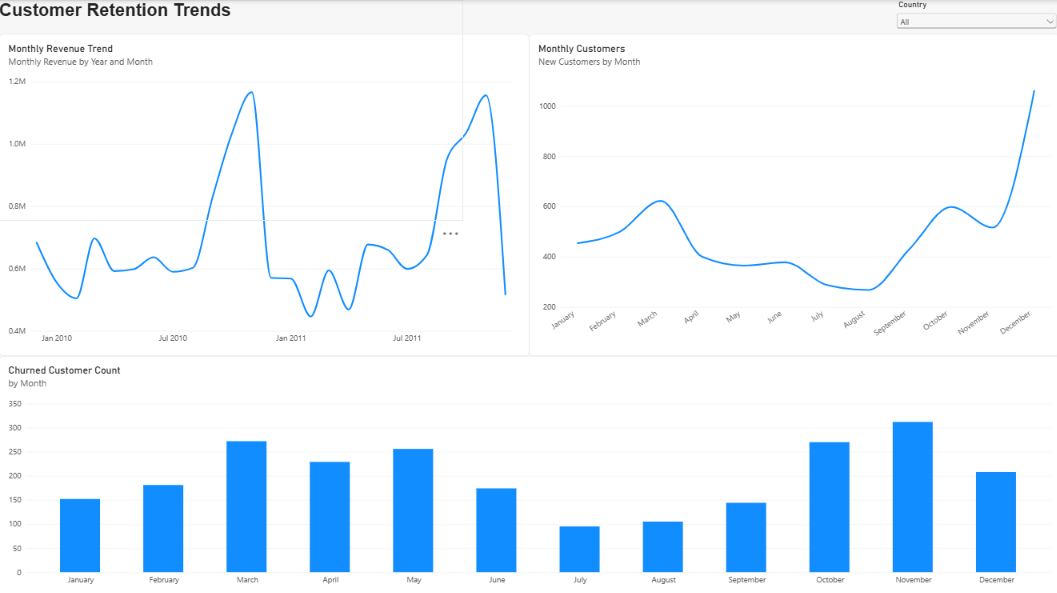

This screenshot's page, from the dashboard's own definition file:
{"tool":"powerbi","page":{"name":"Customer Retention Trends","canvas":[1920,1080],"ordinal":1},"visuals":[{"type":"lineChart","title":"Monthly Revenue Trend","fields":{"Category":["customer_purchases_clean.InvoiceDate.Variation.Date Hierarchy.Year","customer_purchases_clean.InvoiceDate.Variation.Date Hierarchy.Month"],"Y":["cancellation_returns_clean.Monthly Revenue"]},"box":[0,61.7,959.2,582.5],"z":0},{"type":"lineChart","title":"Monthly Customers","fields":{"Category":["customer_metrics.First_Purchase_Date.Variation.Date Hierarchy.Month"],"Y":["cancellation_returns_clean.New Customers"]},"box":[959.2,61.7,961.2,582.5],"z":1000},{"type":"clusteredColumnChart","fields":{"Category":["customer_metrics.Last_Purchase_Date.Variation.Date Hierarchy.Month"],"Y":["cancellation_returns_clean.Churned Customer Count"]},"box":[0,644.3,1920.4,436.4],"z":2000},{"type":"slicer","fields":{"Values":["customer_metrics.Country"]},"box":[1619.9,0,300.5,94.7],"z":3000},{"type":"textbox","box":[0,0,839.8,399.3],"z":3001}]}

Visuals, with their boxes in screenshot pixels (x1, y1, x2, y2), scaled from the page's 1920x1080 canvas onto the 1057x593 screenshot:
"Monthly Revenue Trend" lineChart: {"x1": 0, "y1": 34, "x2": 528, "y2": 354}
"Monthly Customers" lineChart: {"x1": 528, "y1": 34, "x2": 1056, "y2": 354}
clusteredColumnChart - customer_metrics.Last_Purchase_Date.Variation.Date Hierarchy.Month x cancellation_returns_clean.Churned Customer Count: {"x1": 0, "y1": 354, "x2": 1056, "y2": 592}
slicer - customer_metrics.Country: {"x1": 892, "y1": 0, "x2": 1056, "y2": 52}
textbox: {"x1": 0, "y1": 0, "x2": 462, "y2": 219}
